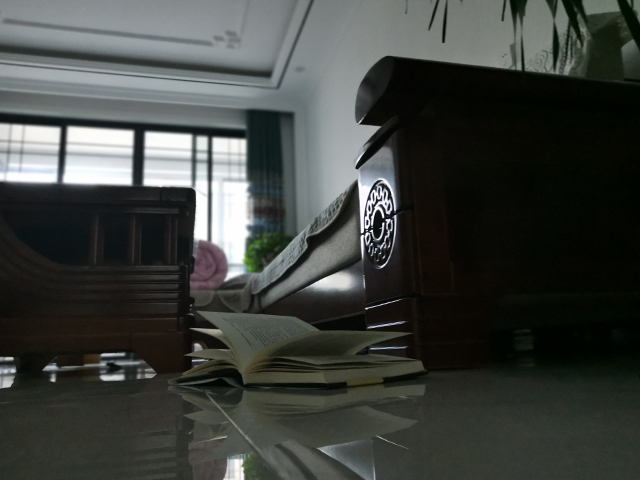book: (164, 309, 433, 391)
curtain: (240, 110, 284, 267)
sofa: (187, 54, 638, 374)
table: (1, 179, 198, 376)
